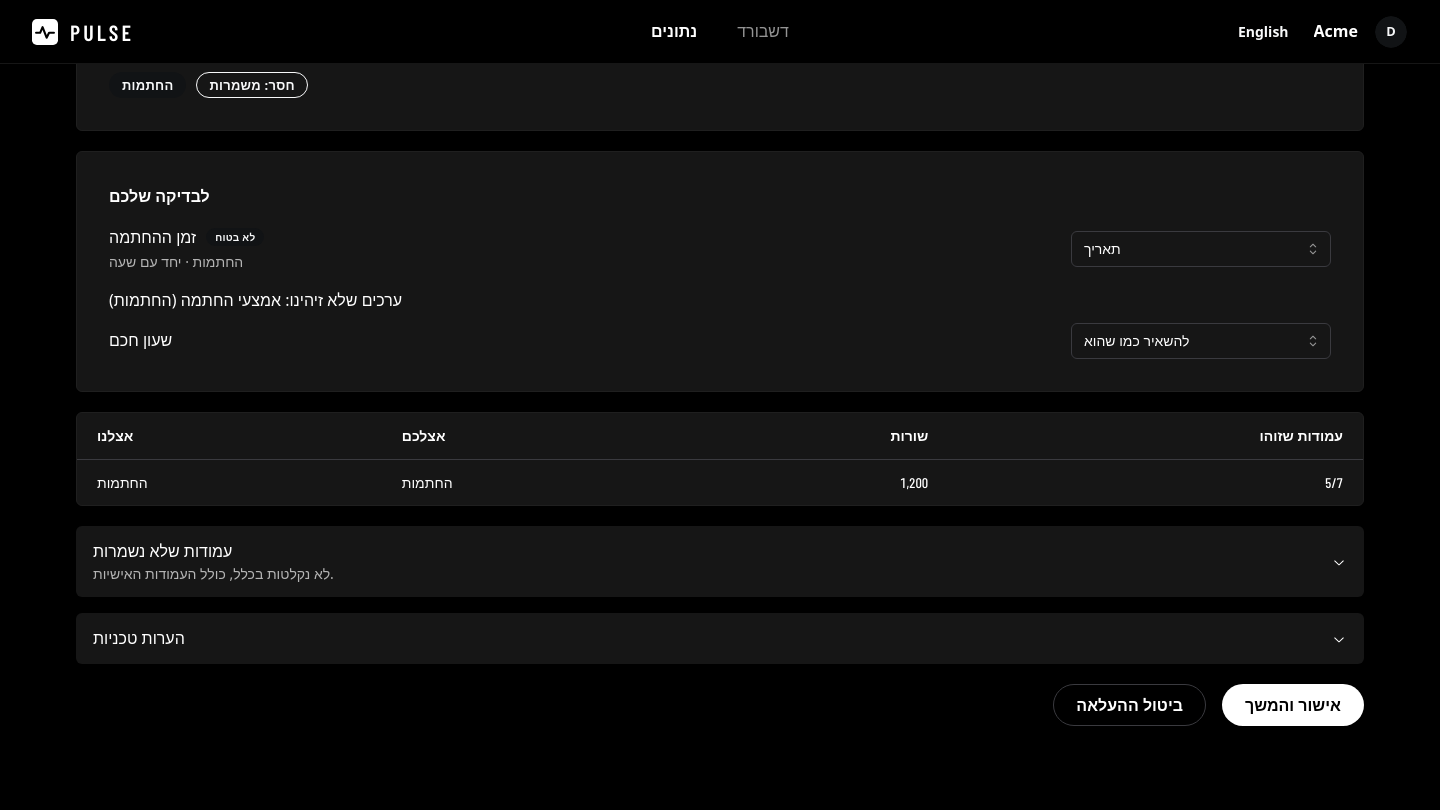
the review › shows what was understood, fixes a flagged column and approves
(page scrolled)
Click the button "עמודות שלא נשמרות לא נקלטות בכלל, כולל העמודות האישיות.": [163, 551] box [77,527,1363,596]
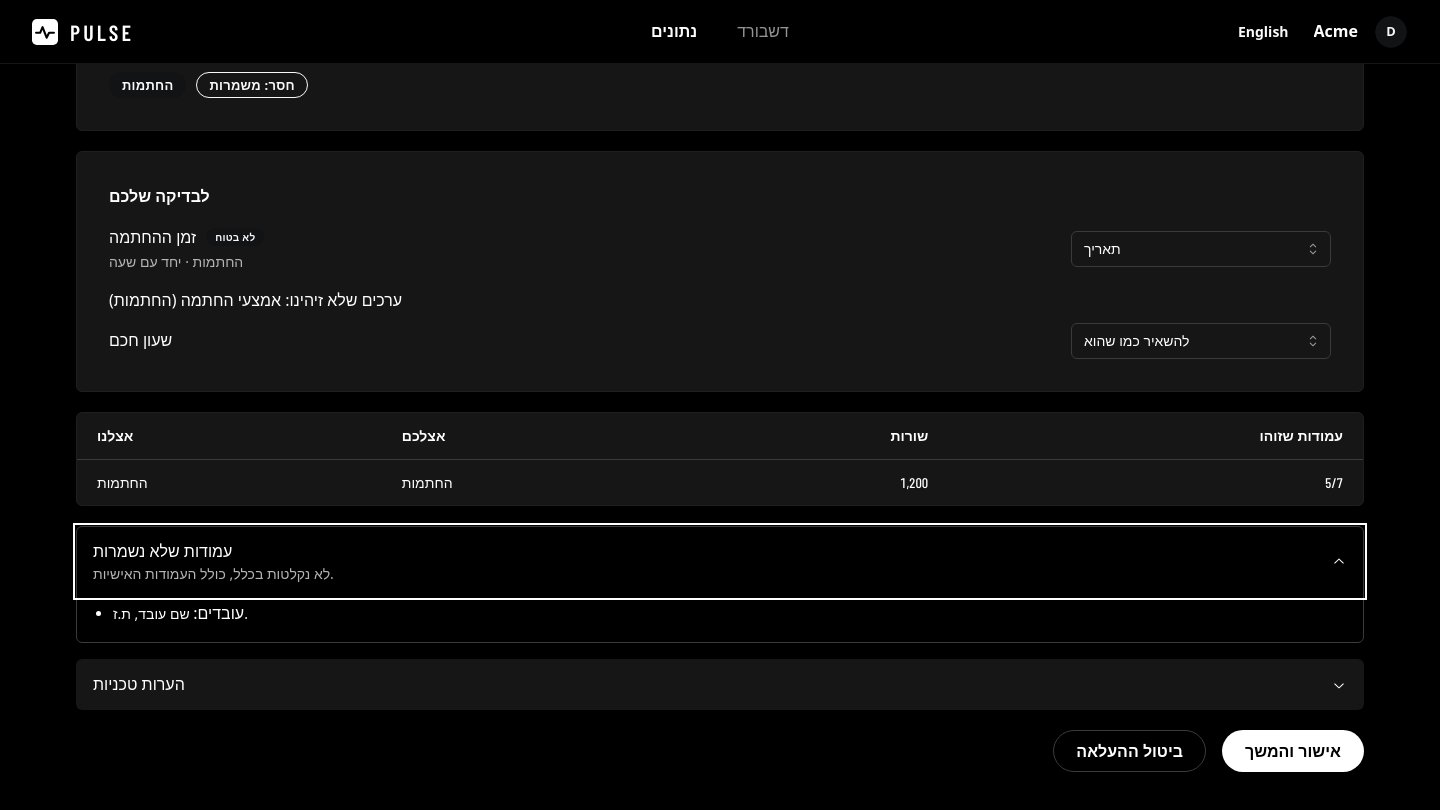
Expected: the text "שם עובד, ת.ז." is shown, [113,604,248,623]
Click the dropdown named "זמן ההחתמה": [1201, 248] box [1071,230,1331,266]
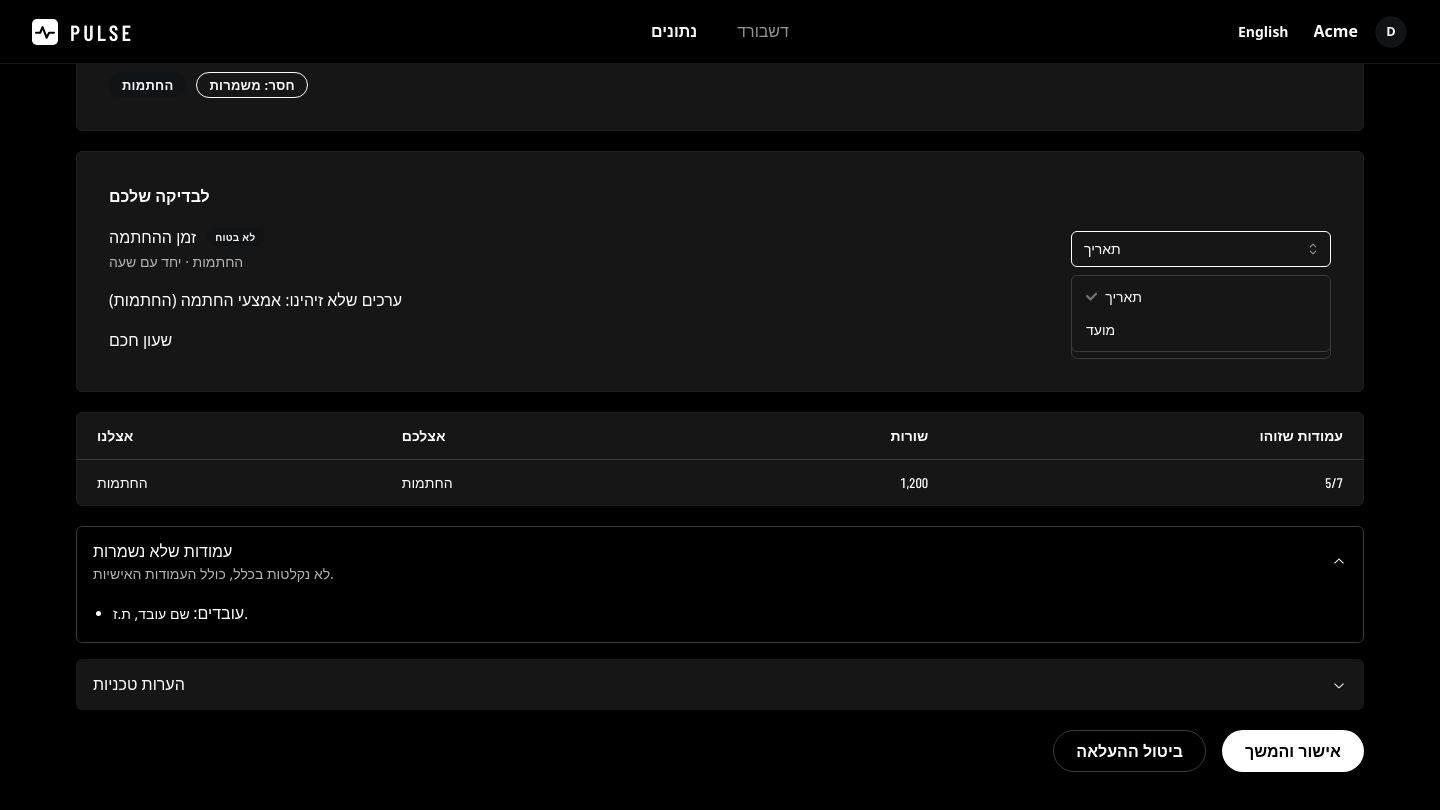
Click the option "מועד": [1101, 330] box [1086,320,1115,339]
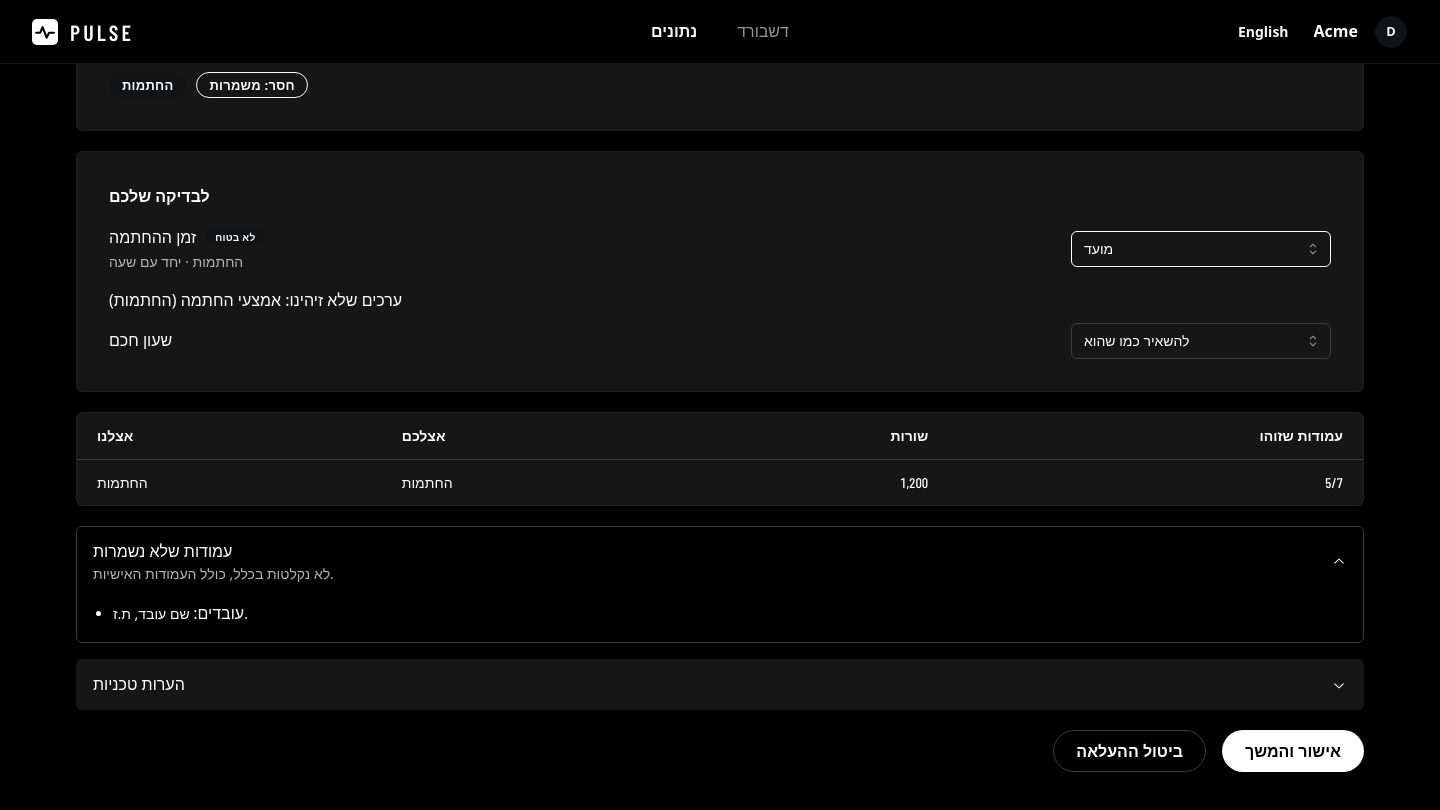
Click the button "אישור והמשך": [1293, 751] box [1222,730,1364,772]
(page scrolled)
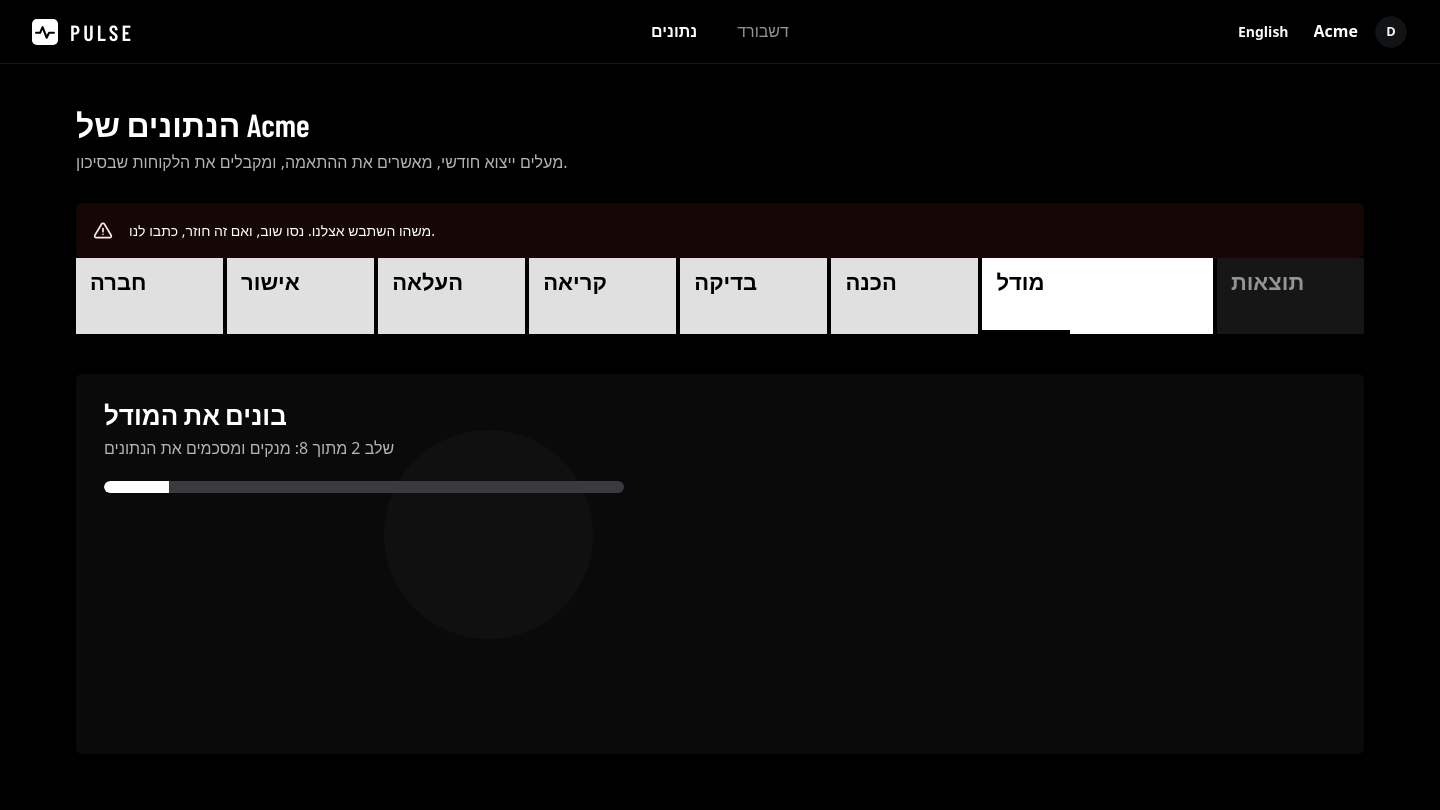
Expected: the heading "בונים את המודל" is shown, [104,400,287,430]
